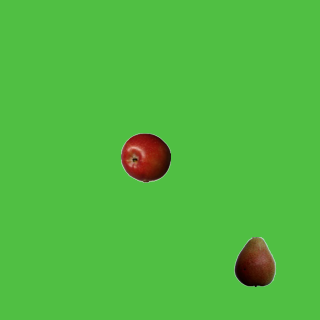Apple Braeburn: (120, 132, 170, 182)
Pear Forelle: (229, 236, 279, 286)
